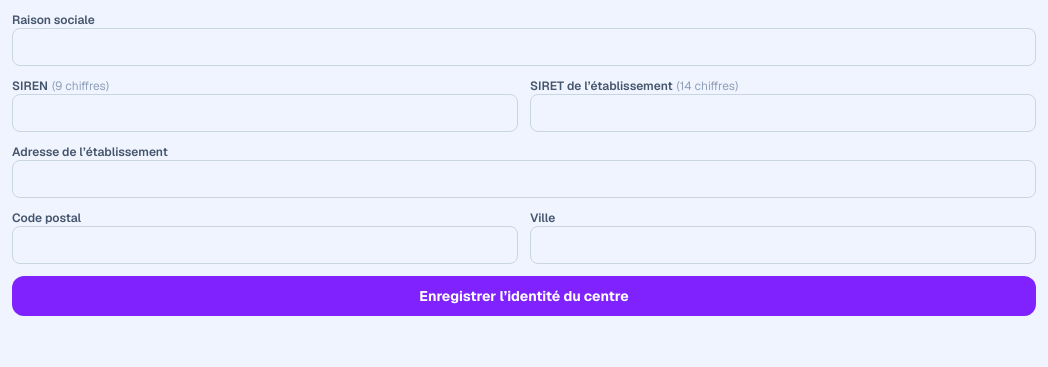
it: centre legal identity form › explains a wrong SIREN before sending anything
Type "Centre Alpha SAS" into the field labelled "Raison sociale" at (524, 47), box top-left (12, 28), bottom-right (1036, 66)
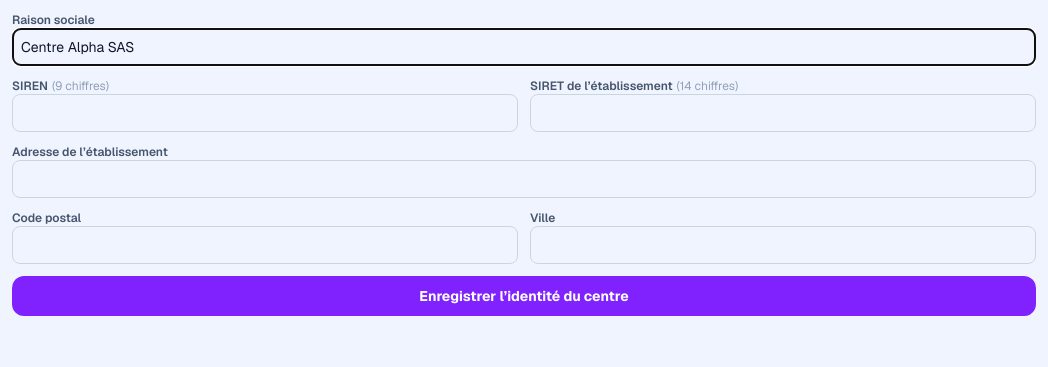
Type "123456789" into the field labelled "SIREN(9 chiffres)" at (265, 113), box top-left (12, 94), bottom-right (518, 132)
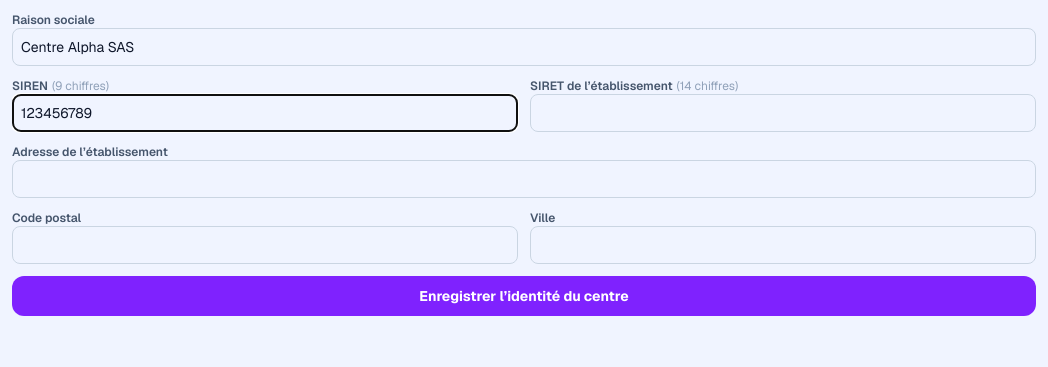
Click the button "Enregistrer l’identité du centre" at (524, 296), box top-left (12, 276), bottom-right (1036, 316)
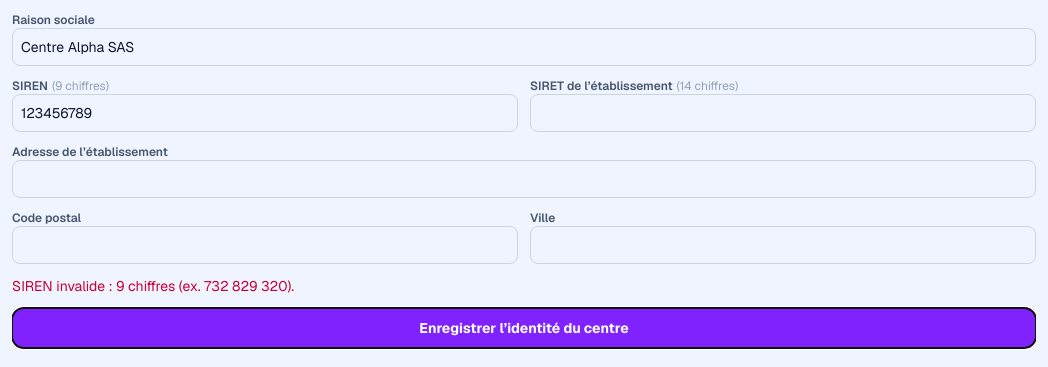
Check: the message shows "SIREN invalide", box top-left (12, 277), bottom-right (294, 295)
